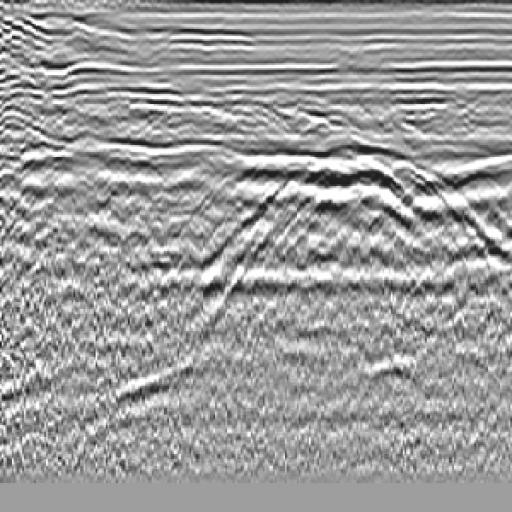non-metallic: (207, 139, 493, 342)
